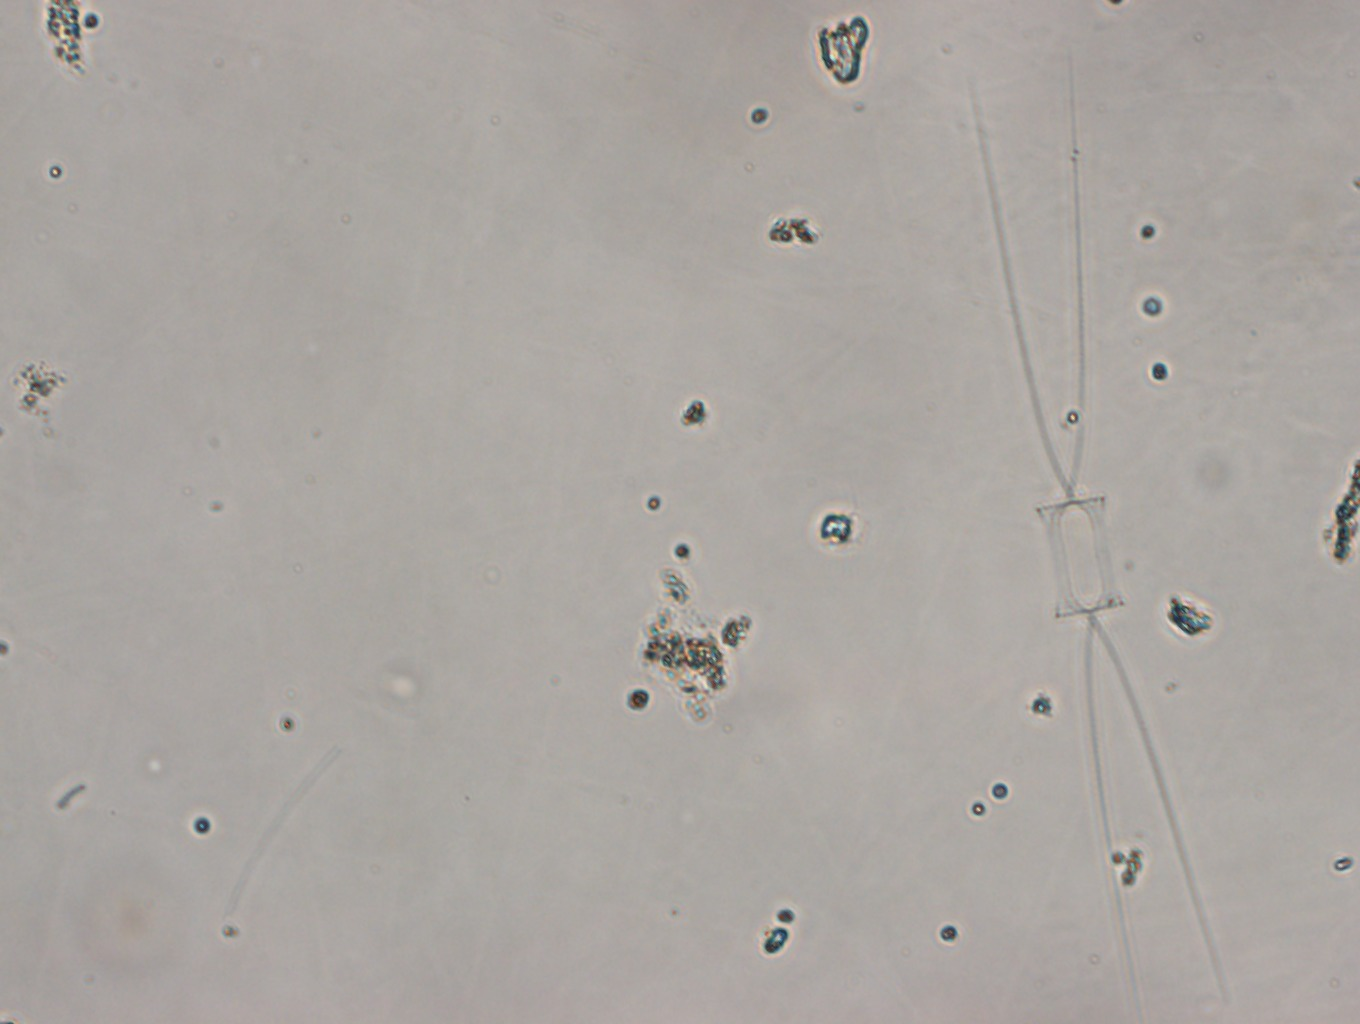chaetoceros: (963, 90, 1227, 981)
